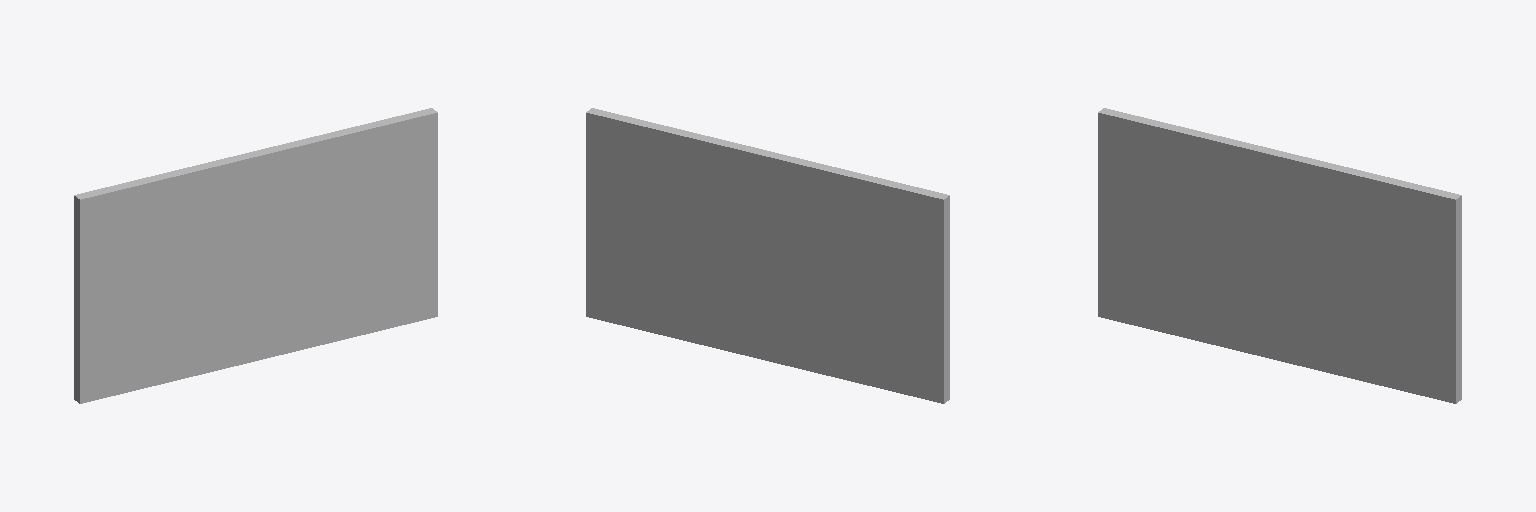
File: WallClock.obj
The picture shows the model from 3 angles: view 1: azimuth 30°, elevation 25°; view 2: azimuth 150°, elevation 25°; view 3: azimuth 330°, elevation 25°; orthographic projection.
Parts seen in each view (by area): view 1: Untitled.001, Untitled.002, Untitled; view 2: Untitled.001, Untitled.002, Untitled; view 3: Untitled.001, Untitled.002, Untitled.
Part boxes in pixels (x1,y1,x2,y2): Untitled.001: (102, 141, 415, 375); Untitled.002: (91, 127, 426, 389); Untitled: (74, 108, 437, 403); Untitled.001: (608, 141, 921, 375); Untitled.002: (597, 127, 932, 389); Untitled: (586, 108, 949, 403); Untitled.001: (1120, 141, 1433, 375); Untitled.002: (1109, 127, 1444, 389); Untitled: (1098, 108, 1461, 403).
Bounding box in the file's own units: 3.3 × 1.8 × 0.1.